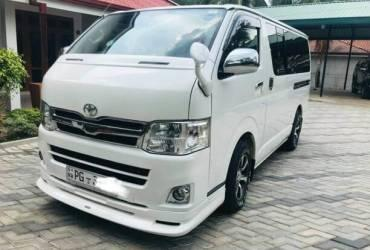van: (36, 6, 313, 237)
